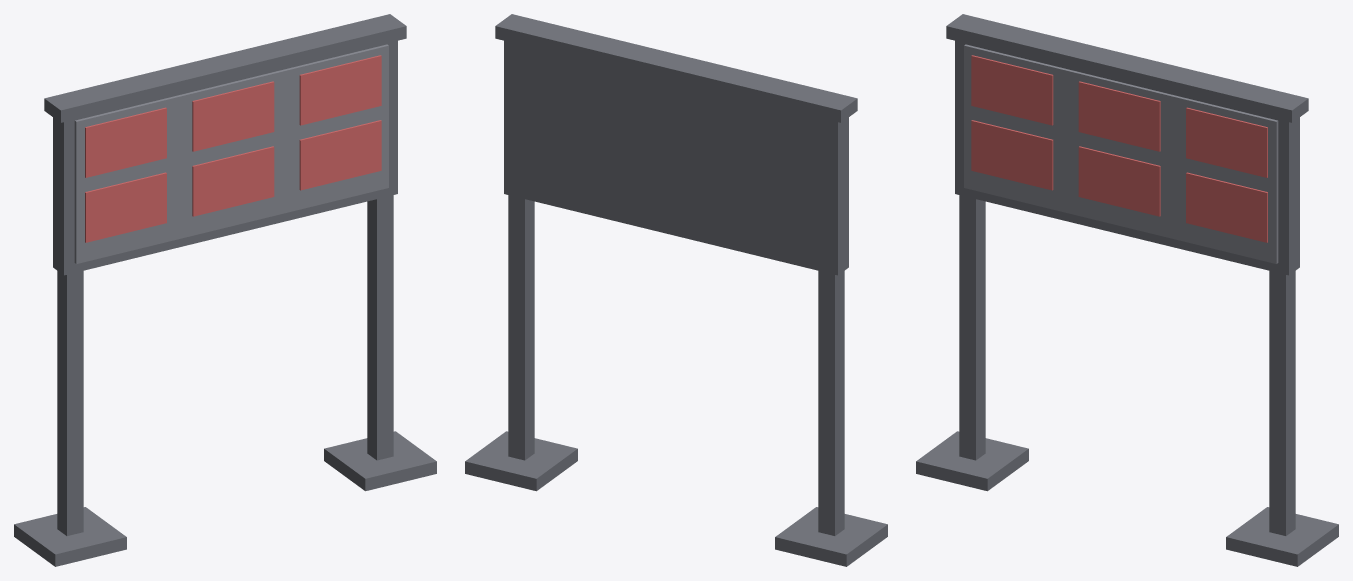
Rendered from scoreboard.glb.
3 views of the same model, side by side, from view 1: azimuth 30°, elevation 25°; view 2: azimuth 150°, elevation 25°; view 3: azimuth 330°, elevation 25° (orthographic).
Parts seen in each view (by area): view 1: scoreboard; view 2: scoreboard; view 3: scoreboard.
Boxes of the visible parts, x1=… form: scoreboard: x1=14, y1=14, x2=436, y2=566; scoreboard: x1=465, y1=14, x2=887, y2=566; scoreboard: x1=916, y1=14, x2=1338, y2=566.
Size of the model in its own units: 3.2 by 3.55 by 0.5998.
